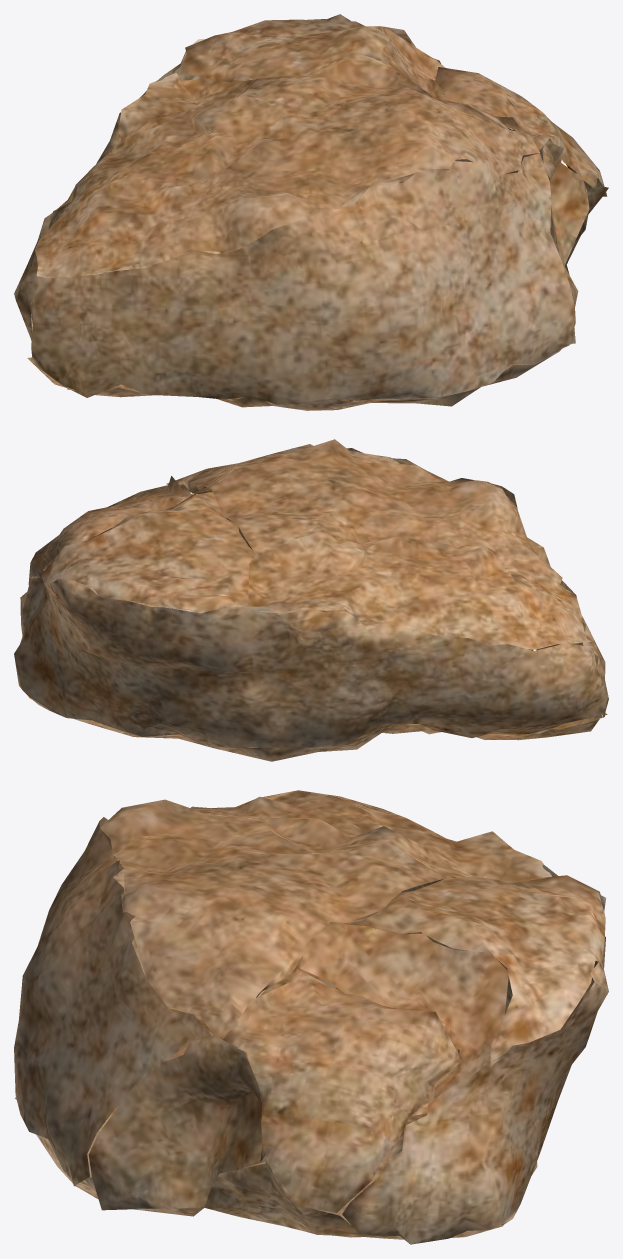
File: namaqualand_rocks_01_v2.glb
3 views of the same model, one above another, from view 1: azimuth 30°, elevation 25°; view 2: azimuth 150°, elevation 25°; view 3: azimuth 270°, elevation 25° (orthographic). The views are drawn at different scales.
Visible parts, largest first — view 1: lod0; view 2: lod0; view 3: lod0.
Part boxes in pixels (x1,y1,x2,y2): lod0: (14,14,608,410); lod0: (14,439,608,761); lod0: (14,790,608,1244).
Size of what is drawn, in the model's own units: 0.2177 by 0.0816 by 0.1626.
Materials: 1 (1 with a texture image).
